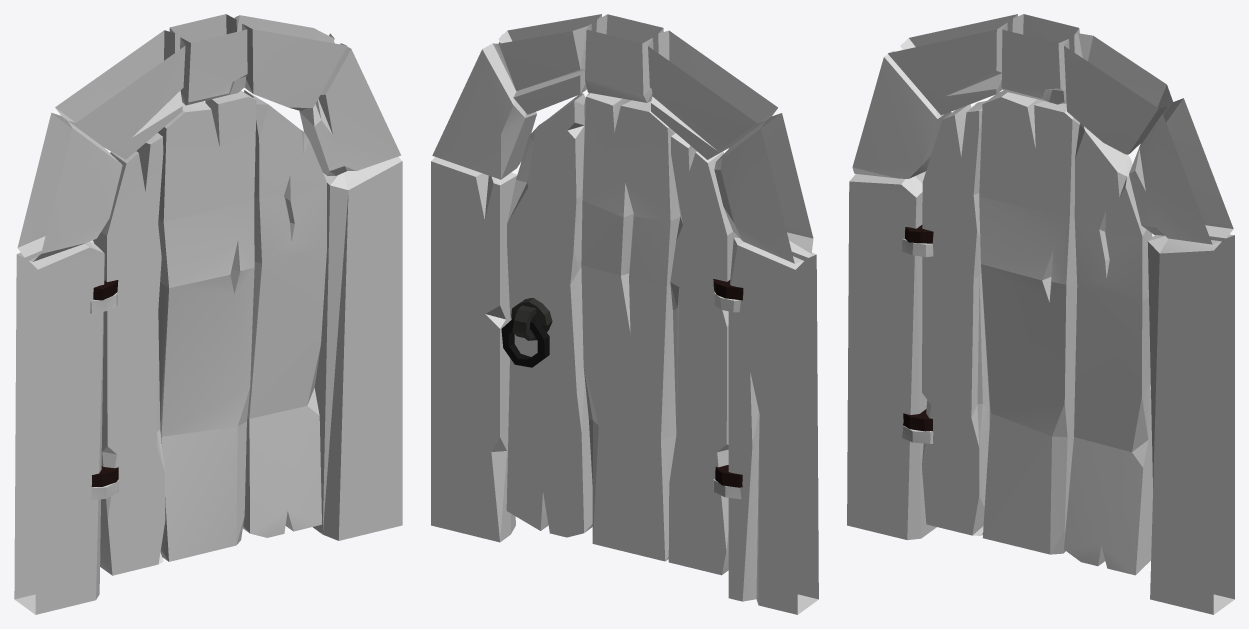
The model's file is NGF_Env_Door_arc_06.fbx.
3 views of the same model, side by side, from view 1: azimuth 30°, elevation 25°; view 2: azimuth 150°, elevation 25°; view 3: azimuth 330°, elevation 25° (orthographic).
Parts seen in each view (by area): view 1: NGF_Env_Door_arc_06, NGF_Env_Door_09, NGF_Env_Hinges_19, NGF_Env_Hinges_13; view 2: NGF_Env_Door_arc_06, NGF_Env_Door_09, NGF_Env_Handle_07, NGF_Env_Handle_attachment_07, NGF_Env_Hinges_19, NGF_Env_Hinges_13; view 3: NGF_Env_Door_09, NGF_Env_Door_arc_06, NGF_Env_Hinges_19, NGF_Env_Hinges_13.
Boxes of the visible parts, box(x1,y1,x2,y2) form: NGF_Env_Door_arc_06: box(14, 14, 402, 614); NGF_Env_Door_09: box(93, 90, 326, 575); NGF_Env_Hinges_19: box(91, 280, 118, 486); NGF_Env_Hinges_13: box(90, 292, 118, 500); NGF_Env_Door_arc_06: box(431, 14, 818, 614); NGF_Env_Door_09: box(506, 93, 738, 575); NGF_Env_Handle_07: box(501, 317, 549, 367); NGF_Env_Handle_attachment_07: box(511, 298, 552, 340); NGF_Env_Hinges_19: box(713, 279, 743, 487); NGF_Env_Hinges_13: box(713, 292, 741, 499); NGF_Env_Door_09: box(922, 90, 1152, 575); NGF_Env_Door_arc_06: box(847, 14, 1234, 614); NGF_Env_Hinges_19: box(903, 225, 933, 431); NGF_Env_Hinges_13: box(901, 238, 933, 443).
Bounding box in the file's own units: 2 × 2.79 × 0.3381.
Materials: 1 (1 with a texture image).
